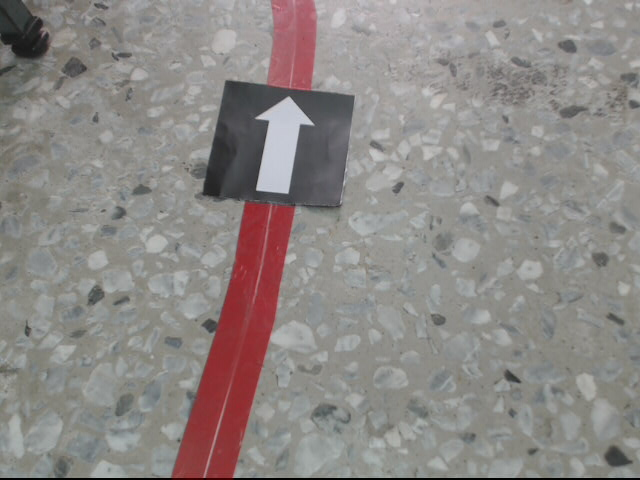straight: (203, 80, 355, 207)
